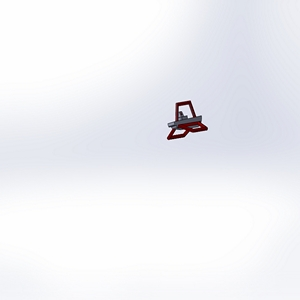submarine: (157, 95, 217, 153)
